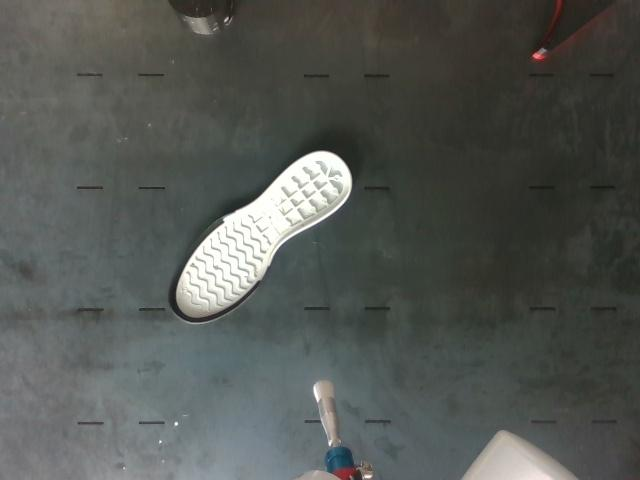shoes: (168, 151, 352, 324)
